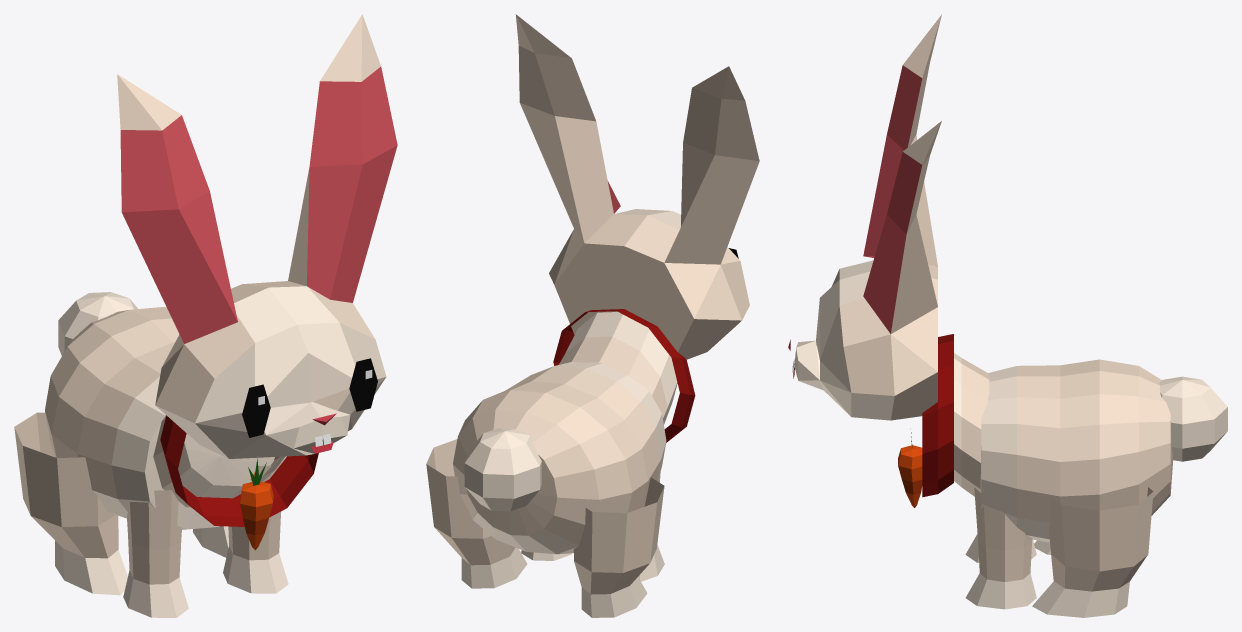
File: DigPals_Bunny.obj
3 renders of one model, left to right at view 1: azimuth 30°, elevation 25°; view 2: azimuth 150°, elevation 25°; view 3: azimuth 270°, elevation 25°, orthographic. The views are drawn at different scales.
Visible parts, largest first — view 1: Bunny_Body, Bunny_Collar, Bunny_Eyes, Bunny_Carrot; view 2: Bunny_Body, Bunny_Collar; view 3: Bunny_Body, Bunny_Collar, Bunny_Carrot.
Boxes of the visible parts, x1=… form: Bunny_Body: x1=14, y1=14, x2=397, y2=617; Bunny_Collar: x1=160, y1=415, x2=318, y2=526; Bunny_Eyes: x1=242, y1=358, x2=377, y2=437; Bunny_Carrot: x1=240, y1=458, x2=273, y2=550; Bunny_Body: x1=426, y1=14, x2=759, y2=617; Bunny_Collar: x1=553, y1=309, x2=695, y2=442; Bunny_Body: x1=794, y1=14, x2=1227, y2=617; Bunny_Collar: x1=922, y1=334, x2=953, y2=497; Bunny_Carrot: x1=898, y1=432, x2=922, y2=507.
Size of the model in its own units: 1.44 by 2.85 by 2.23.
